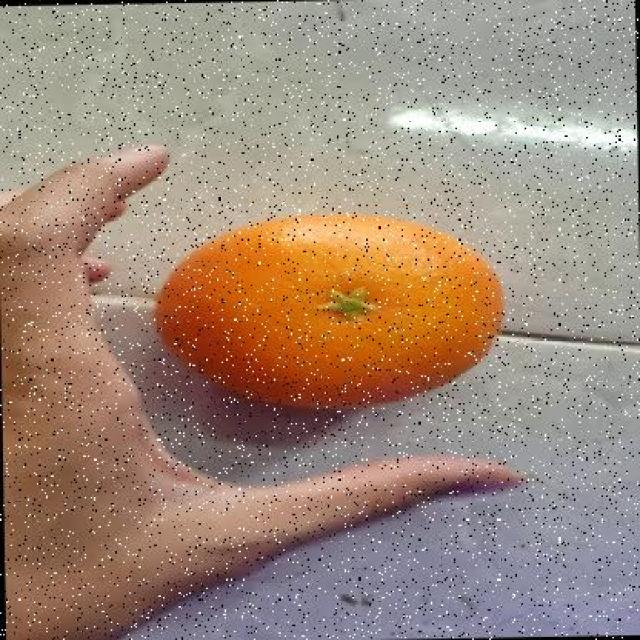Orange: (152, 211, 506, 412)
